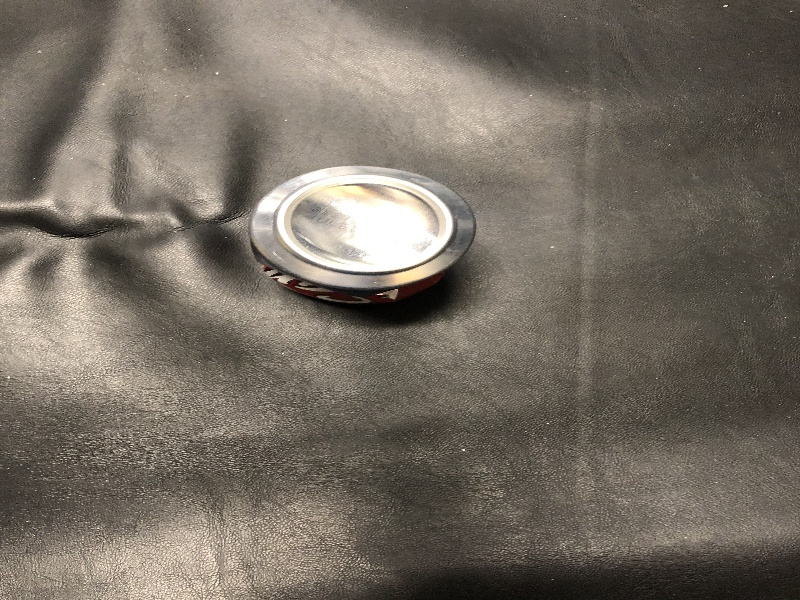metal: (240, 154, 485, 328)
